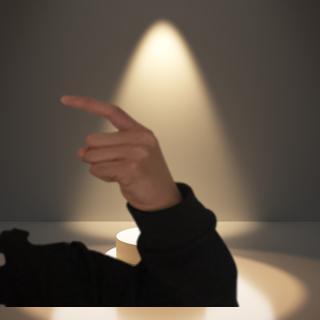WHY: (50, 85, 178, 209)
